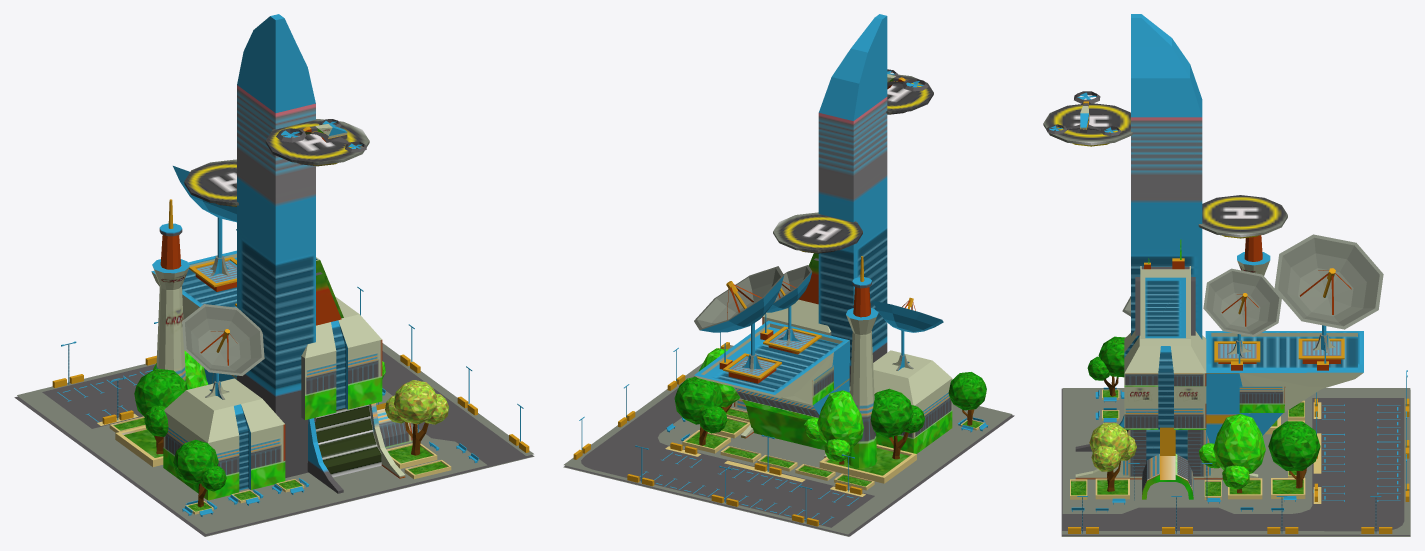
File: telecom_LV1.fbx
3 views of the same model, side by side, from view 1: azimuth 30°, elevation 25°; view 2: azimuth 150°, elevation 25°; view 3: azimuth 270°, elevation 25° (orthographic). The views are drawn at different scales.
Visible parts, largest first — view 1: telecom level 1; view 2: telecom level 1; view 3: telecom level 1.
Boxes of the visible parts, x1,y1,x2,y2 form: telecom level 1: (14,14,534,536); telecom level 1: (563,14,1014,536); telecom level 1: (1043,14,1410,536).
Size of the model in its own units: 120 by 161 by 126.
